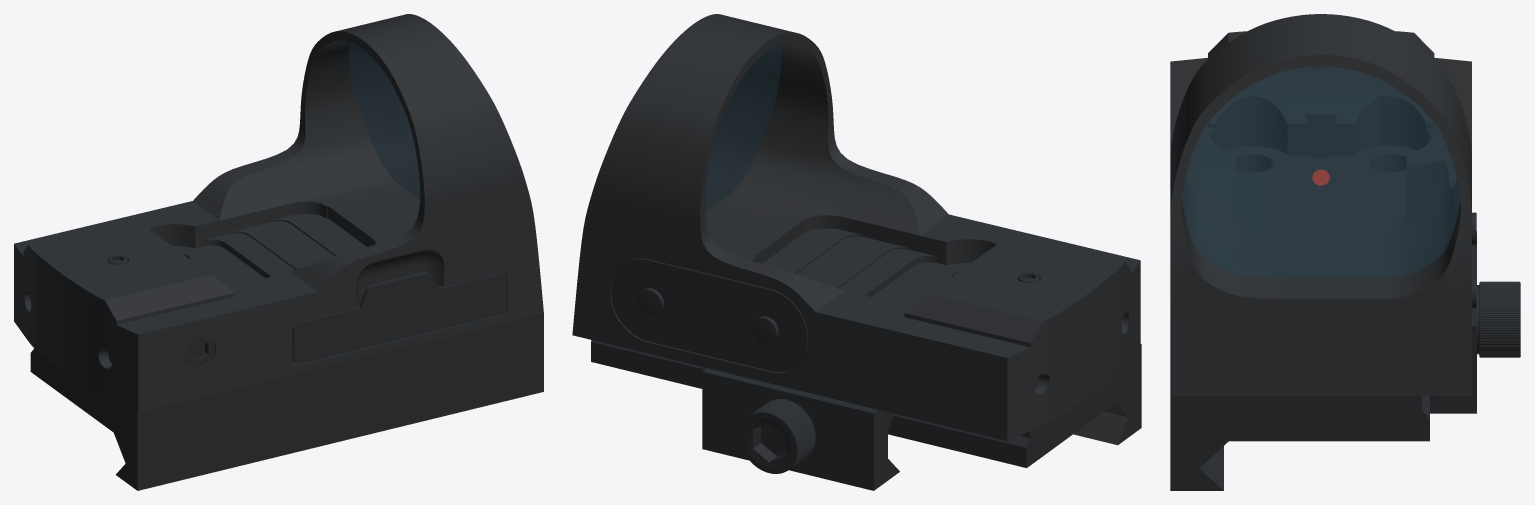
File: AR15_Red-Dot.glb
3 renders of one model, left to right at view 1: azimuth 30°, elevation 25°; view 2: azimuth 150°, elevation 25°; view 3: azimuth 270°, elevation 25°, orthographic. The views are drawn at different scales.
Parts seen in each view (by area): view 1: Cube; view 2: Cube; view 3: Cube.
Boxes of the visible parts, <box> form: Cube: <box>14,14,543,490</box>; Cube: <box>572,14,1141,490</box>; Cube: <box>1170,14,1520,490</box>.
Size of the model in its own units: 0.0506 by 0.0385 by 0.0301.
